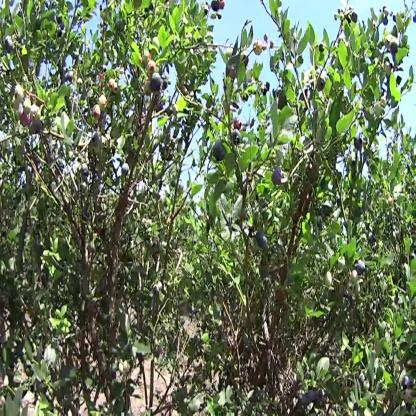intermediate: (254, 41, 264, 56), (147, 61, 157, 76), (143, 50, 152, 65), (93, 104, 101, 119), (235, 116, 243, 129), (110, 79, 115, 91)
mature: (212, 138, 226, 163), (19, 107, 31, 129), (149, 74, 162, 94), (257, 227, 268, 247), (273, 168, 283, 185), (31, 120, 43, 134), (233, 129, 242, 145), (82, 162, 90, 180), (91, 132, 100, 148), (5, 36, 13, 54), (356, 261, 366, 275), (355, 135, 363, 151), (319, 76, 328, 90), (403, 376, 411, 390), (122, 161, 130, 175), (212, 1, 220, 11), (220, 1, 226, 9)
young: (15, 86, 24, 105), (24, 97, 32, 115), (385, 60, 394, 76), (100, 95, 108, 112), (364, 379, 372, 393), (326, 272, 333, 287), (386, 35, 393, 50), (351, 272, 359, 284), (389, 194, 394, 208), (114, 83, 118, 95)
